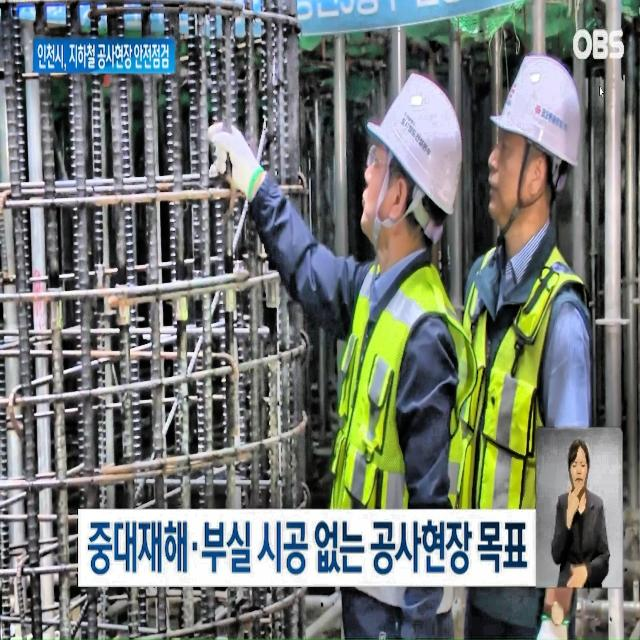safety_helmet: (354, 66, 479, 245), (492, 40, 601, 198)
safety_jacket: (318, 248, 486, 617), (445, 245, 596, 640)
